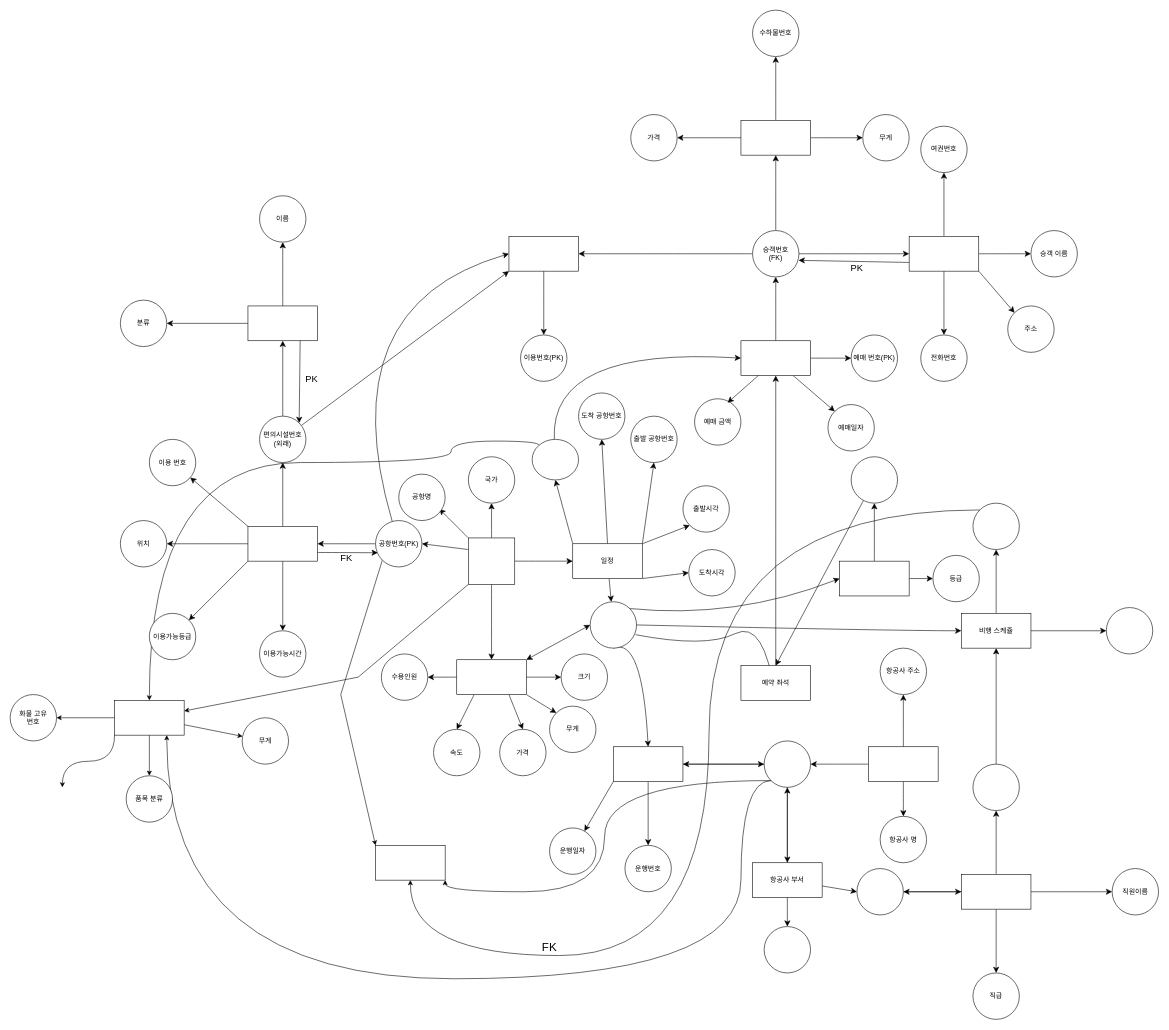
The diagram is 1169 pixels wide and 1030 high, and some of its shapes have lost their labels. The centre of each missing label's shape, as x and y in pixels:
게이트: (x=410, y=862)
공항: (x=491, y=560)
부서 명: (x=787, y=949)
부서코드 (PK),(FK): (x=879, y=891)
비행기: (x=491, y=677)
비행번호 (PK): (x=995, y=526)
비행일자: (x=1129, y=630)
수하물: (x=775, y=137)
승객: (x=944, y=253)
예매: (x=775, y=358)
운행: (x=648, y=764)
이용: (x=543, y=253)
일정번호(키): (x=555, y=459)
제공서비스: (x=282, y=543)
좌석: (x=874, y=578)
좌석번호(PK): (x=874, y=479)
직원: (x=996, y=891)
직원번호 (PK),(FK): (x=995, y=787)
편의시설: (x=282, y=323)
항공사: (x=903, y=764)
항공사 번호: (x=787, y=763)
항공편명 (PK),(FK): (x=613, y=624)
화물: (x=149, y=717)
